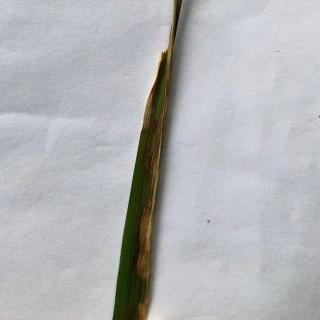Hawar-Daun: (135, 113, 165, 280), (158, 0, 178, 61), (141, 75, 158, 132), (136, 279, 150, 320), (162, 58, 170, 115)
